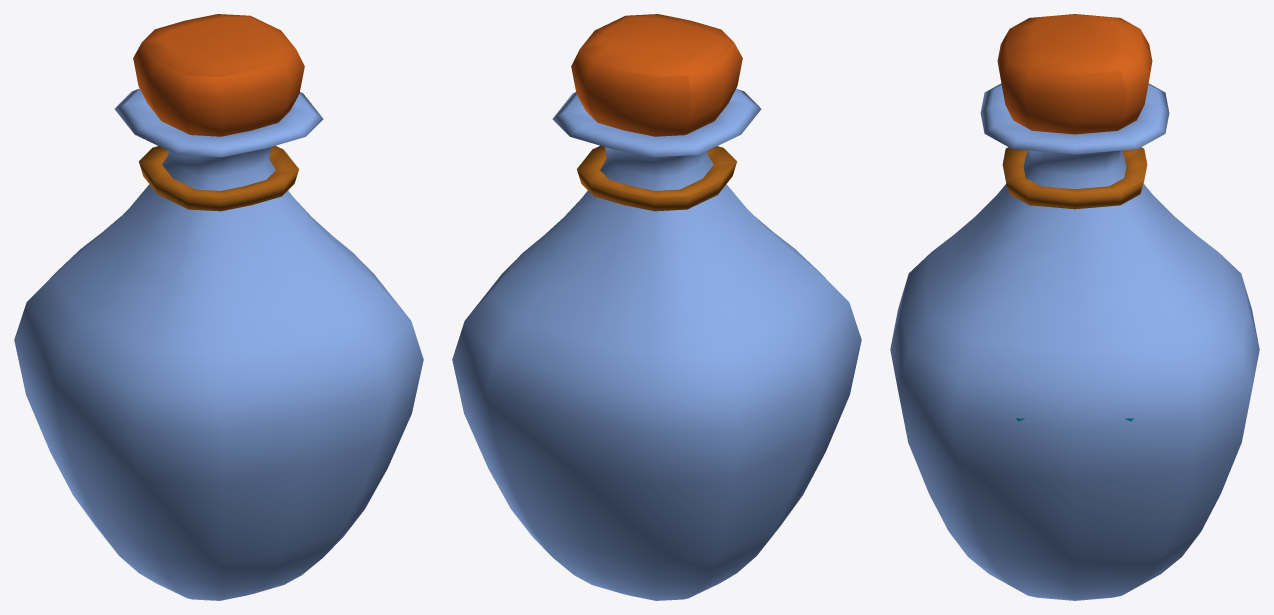
Rendered from Ice potion.glb.
3 views of the same model, side by side, from view 1: azimuth 30°, elevation 25°; view 2: azimuth 150°, elevation 25°; view 3: azimuth 270°, elevation 25° (orthographic).
Parts seen in each view (by area): view 1: Cube.002; view 2: Cube.002; view 3: Cube.002.
Boxes of the visible parts, x1,y1,x2,y2 form: Cube.002: (14,14,423,600); Cube.002: (452,14,861,600); Cube.002: (890,14,1259,600).
Size of the model in its own units: 0.106 by 0.1646 by 0.1024.
Materials: 3 (1 with a texture image).
